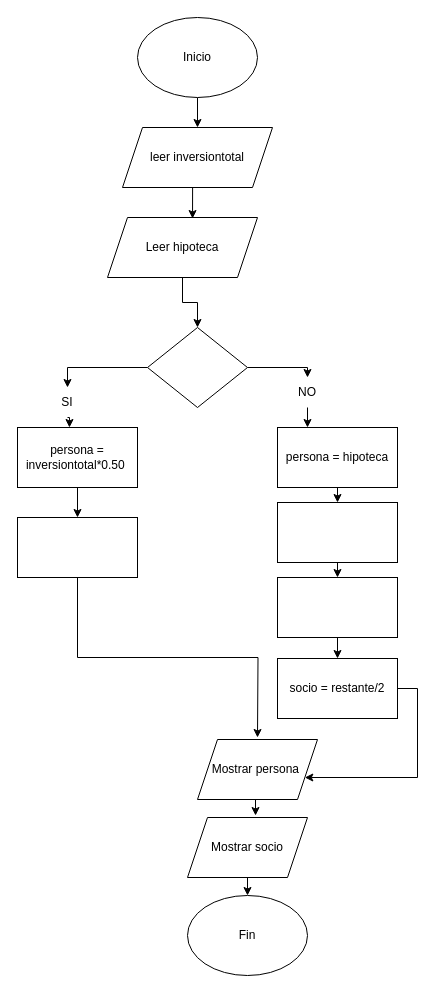
This 443x993 diagram has some shape labels left out. The centre of each missing label's shape, as x and y in pixels:
hipoteca < 1000000?: [197,367]
persona = persona + restante/2: [337,607]
restante = inversiontotal - hipoteca: [337,532]
socio = inversiontotal*0.50: [77,547]
